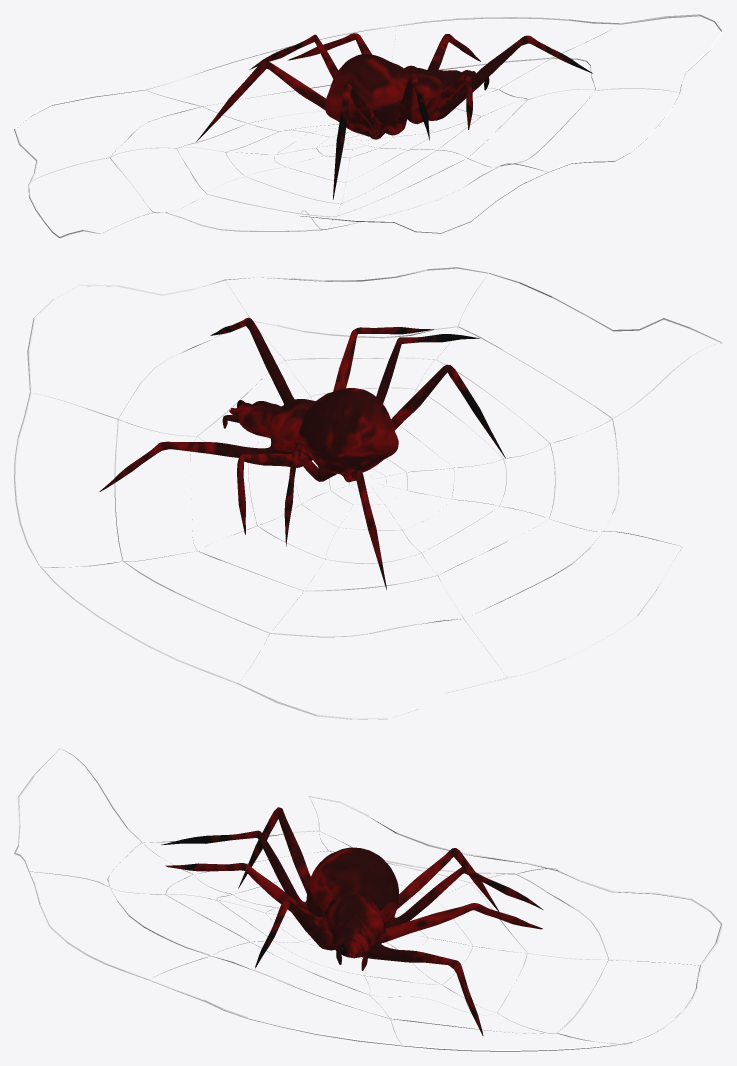
The model's file is spiderweb.glb.
3 views of the same model, one above another, from view 1: azimuth 30°, elevation 25°; view 2: azimuth 150°, elevation 25°; view 3: azimuth 270°, elevation 25° (orthographic). The views are drawn at different scales.
Parts seen in each view (by area): view 1: Spider_0, Web_0; view 2: Spider_0, Web_0; view 3: Spider_0, Web_0.
Boxes of the visible parts, box(x1,y1,x2,y2) form: Spider_0: box(196, 33, 592, 199); Web_0: box(14, 14, 722, 238); Spider_0: box(99, 317, 505, 589); Web_0: box(14, 267, 722, 719); Spider_0: box(161, 807, 543, 1035); Web_0: box(14, 748, 722, 1051).
Size of the model in its own units: 24.42 by 6.16 by 23.4.
2 materials, 1 textured.
